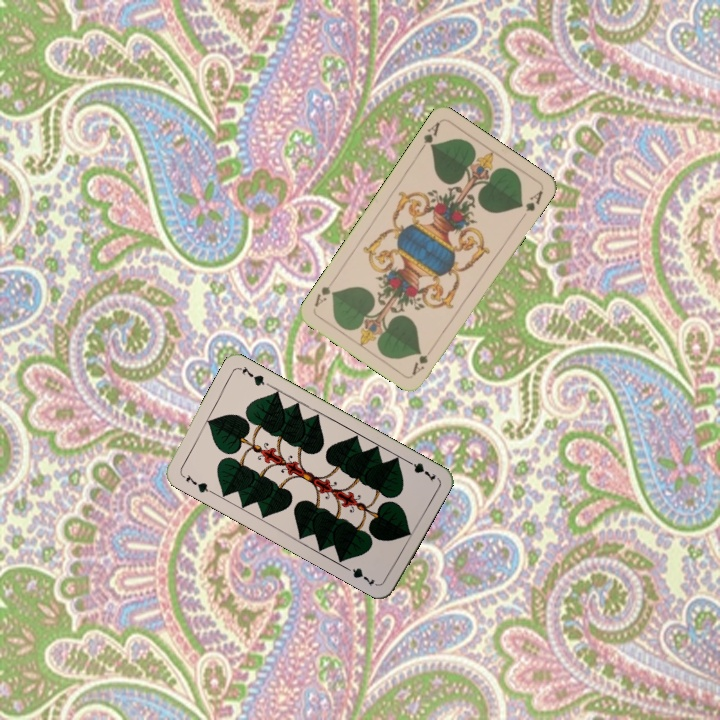G7: (402, 456, 439, 484), (177, 470, 215, 496)
GA: (407, 342, 437, 378), (415, 117, 443, 155)
